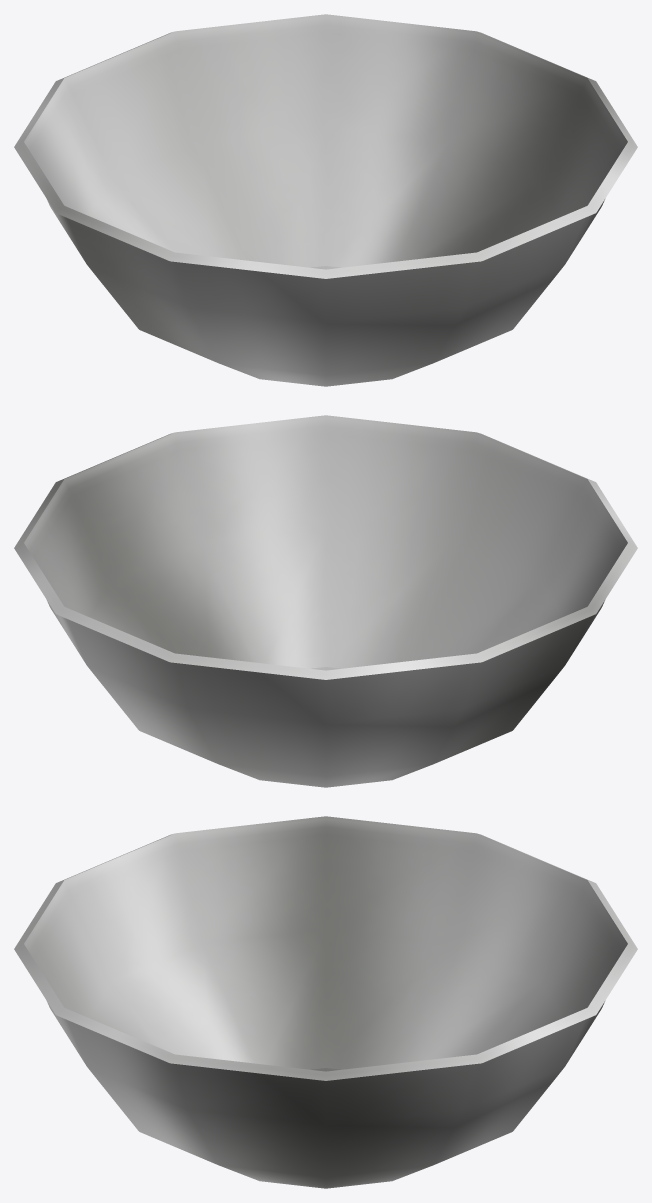
File: jsf_Bowl_07.fbx
The picture shows the model from 3 angles, top to bottom: view 1: azimuth 30°, elevation 25°; view 2: azimuth 150°, elevation 25°; view 3: azimuth 270°, elevation 25°; orthographic projection.
Visible parts, largest first — view 1: jsf_Bowl_07; view 2: jsf_Bowl_07; view 3: jsf_Bowl_07.
Boxes of the visible parts, x1,y1,x2,y2 form: jsf_Bowl_07: (14,14,637,386); jsf_Bowl_07: (14,415,637,787); jsf_Bowl_07: (14,816,637,1188).
Bounding box in the file's own units: 34.35 × 11.46 × 34.35.
